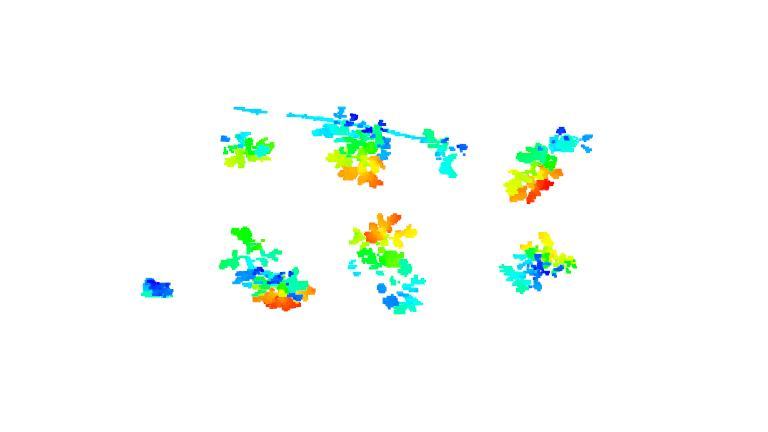chickpea: (221, 224, 313, 313), (348, 209, 425, 315), (502, 123, 594, 204), (311, 107, 392, 189), (498, 229, 577, 295), (419, 122, 470, 179), (217, 128, 278, 171), (139, 276, 178, 303)
